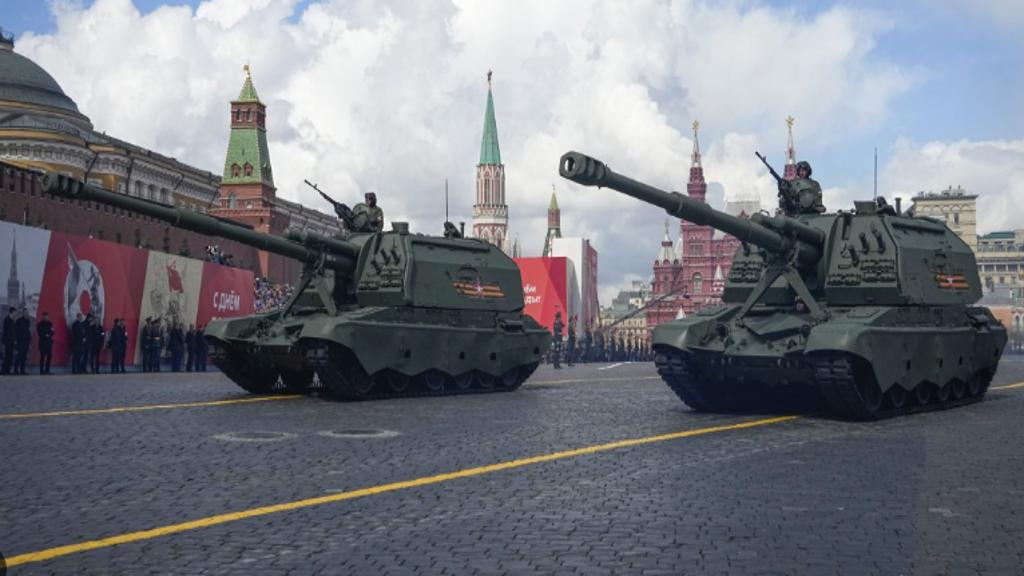ART: (559, 145, 1008, 423), (37, 161, 551, 401)
